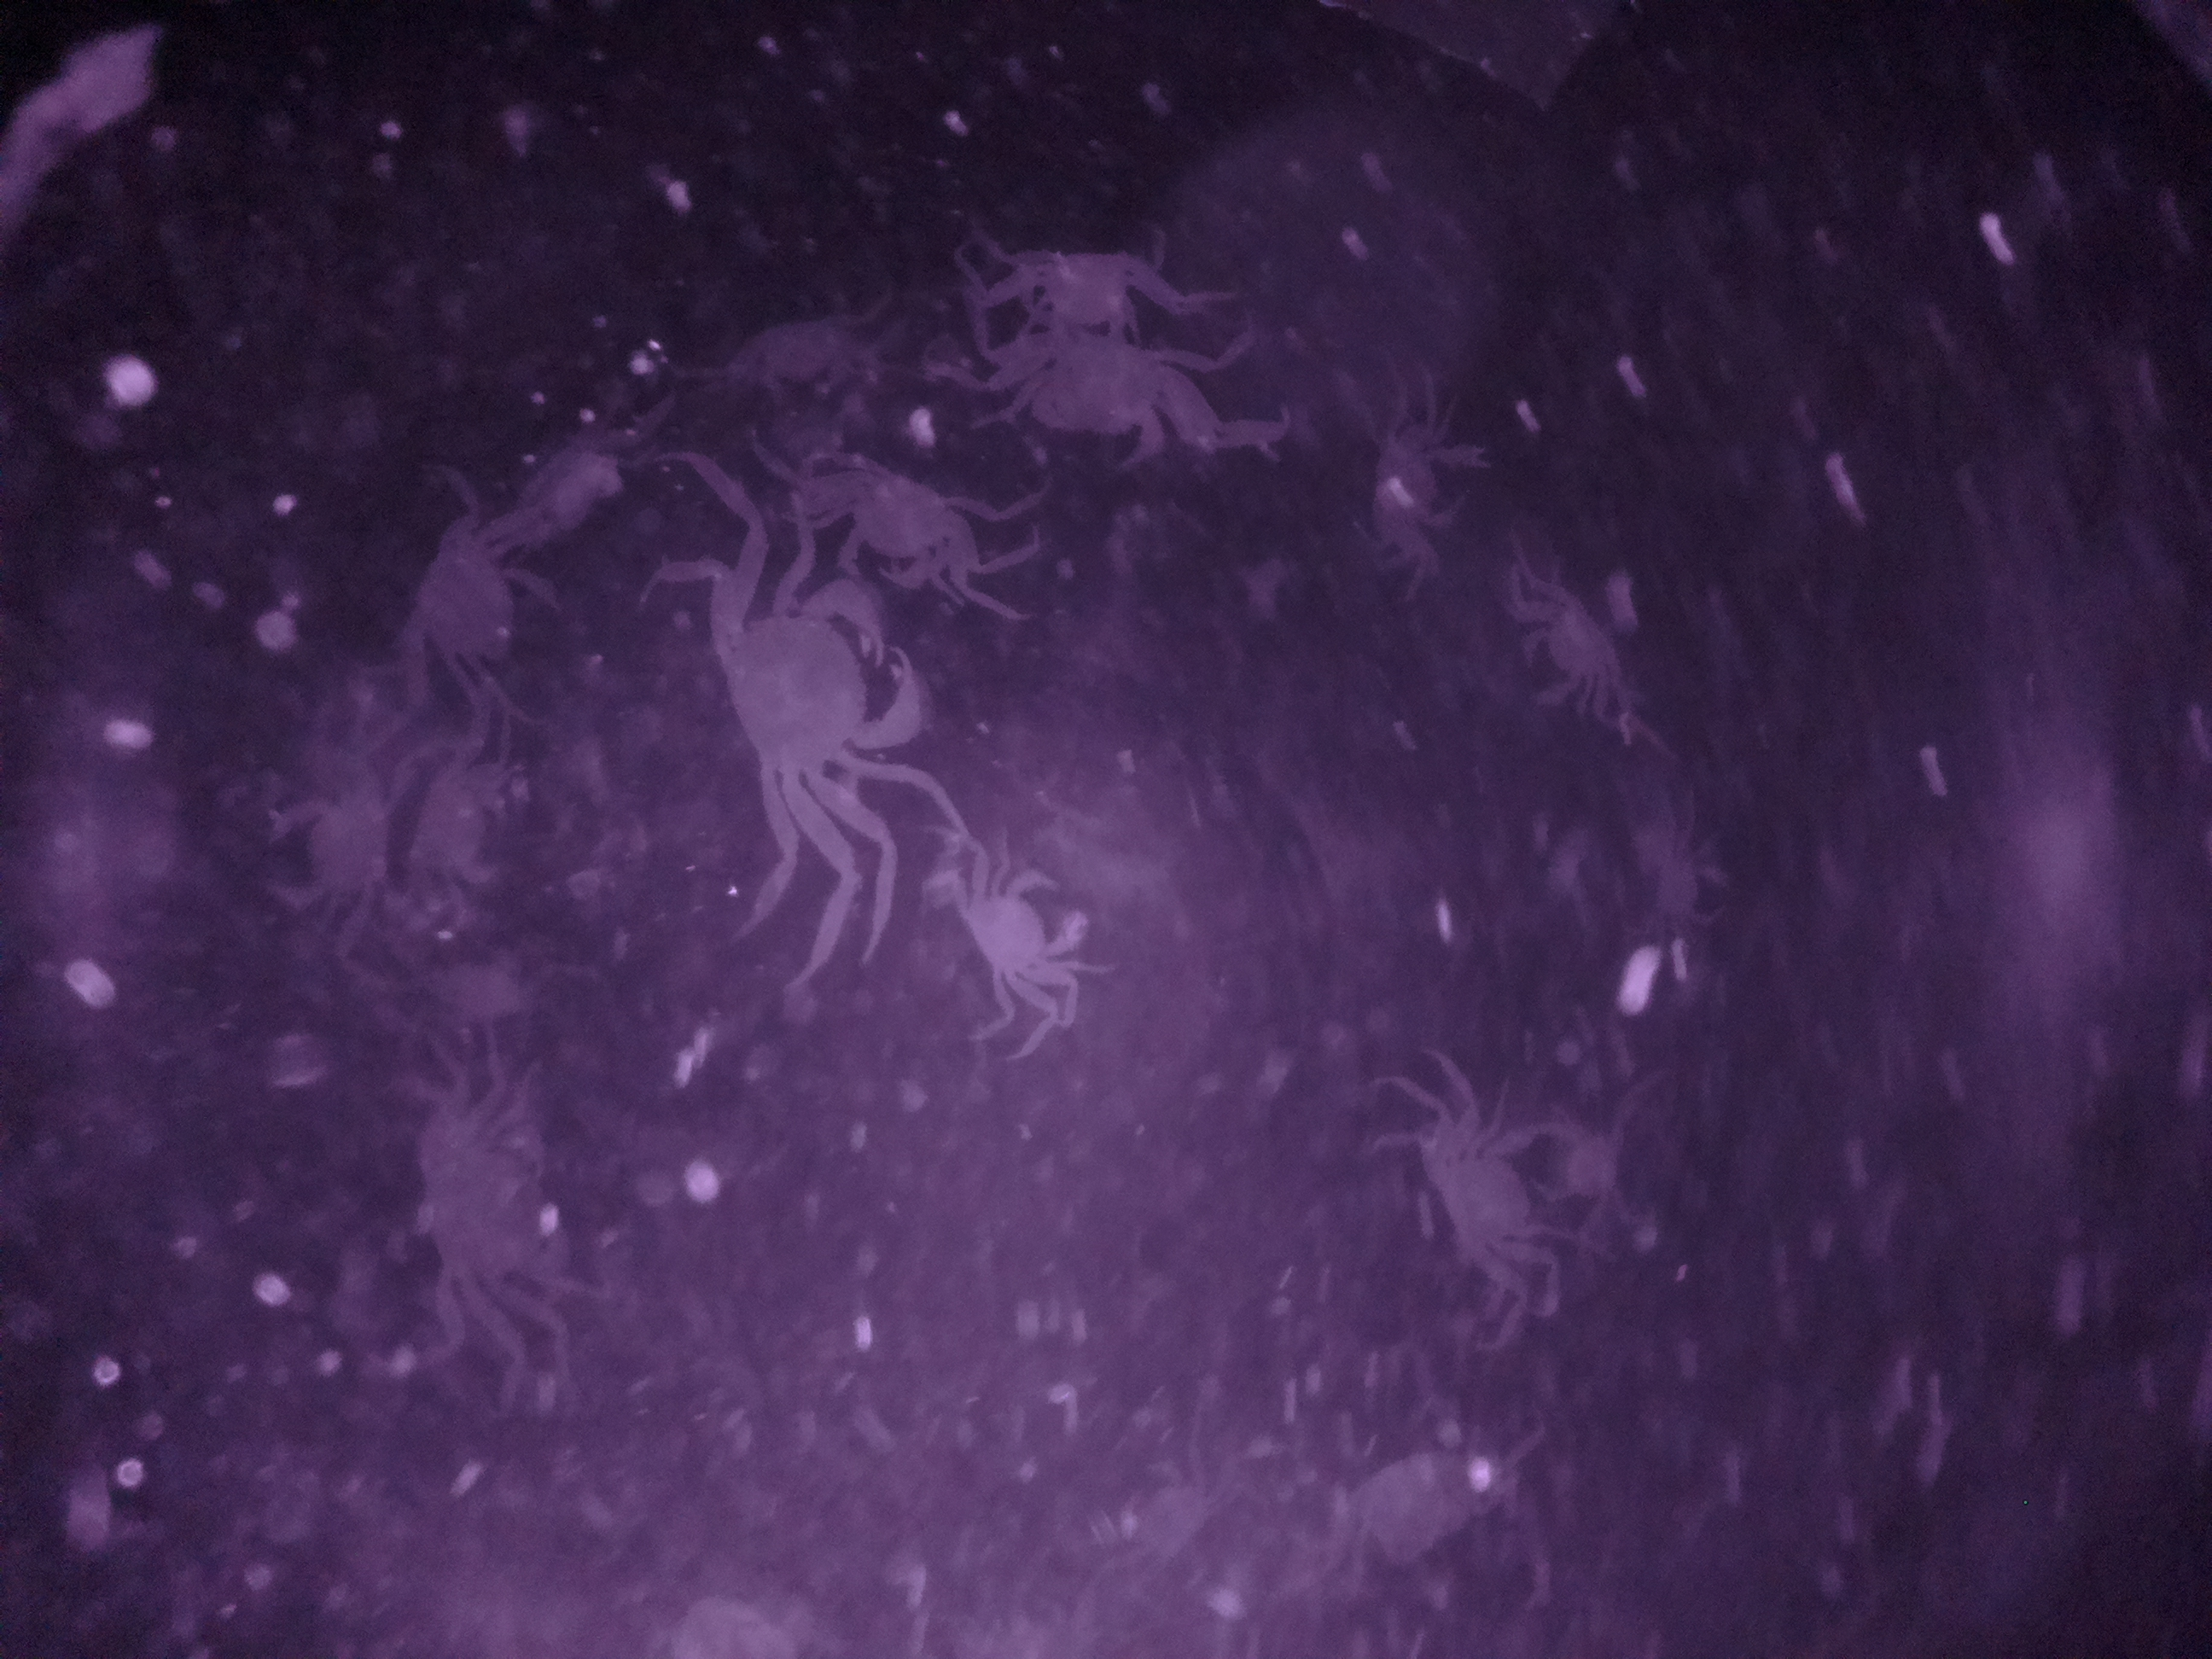Crab: (691, 533, 935, 829), (395, 1063, 589, 1328), (782, 437, 1035, 606), (1409, 1093, 1552, 1328), (993, 326, 1212, 472), (939, 838, 1097, 1021), (1501, 563, 1637, 734)
